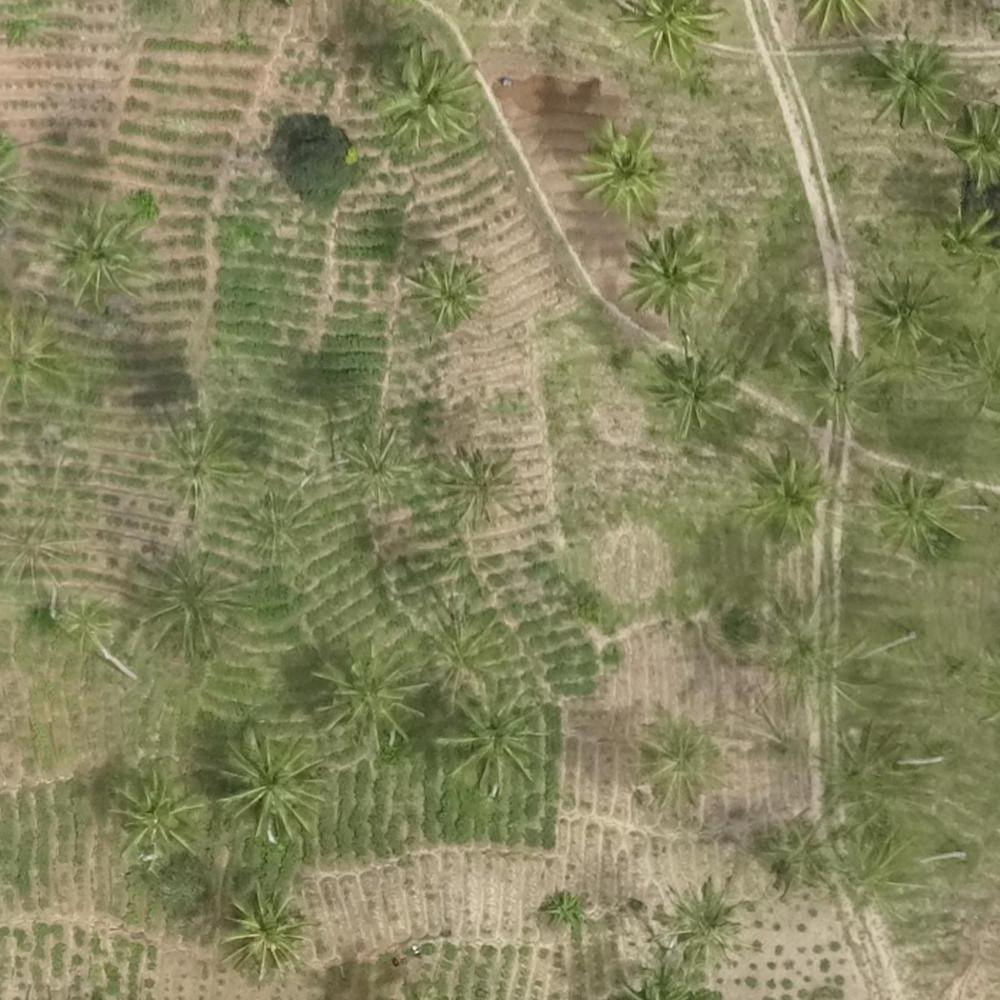Palm: (215, 726, 324, 839), (131, 548, 234, 655), (319, 644, 422, 740), (440, 692, 540, 788), (60, 202, 155, 300), (377, 46, 471, 142), (863, 31, 954, 127), (855, 263, 945, 359), (217, 881, 308, 973), (110, 777, 200, 864), (651, 340, 737, 428), (743, 446, 829, 533), (632, 228, 717, 314), (584, 128, 664, 218), (336, 424, 417, 511), (871, 466, 957, 545), (432, 444, 514, 525), (795, 348, 876, 427), (398, 255, 482, 325)
